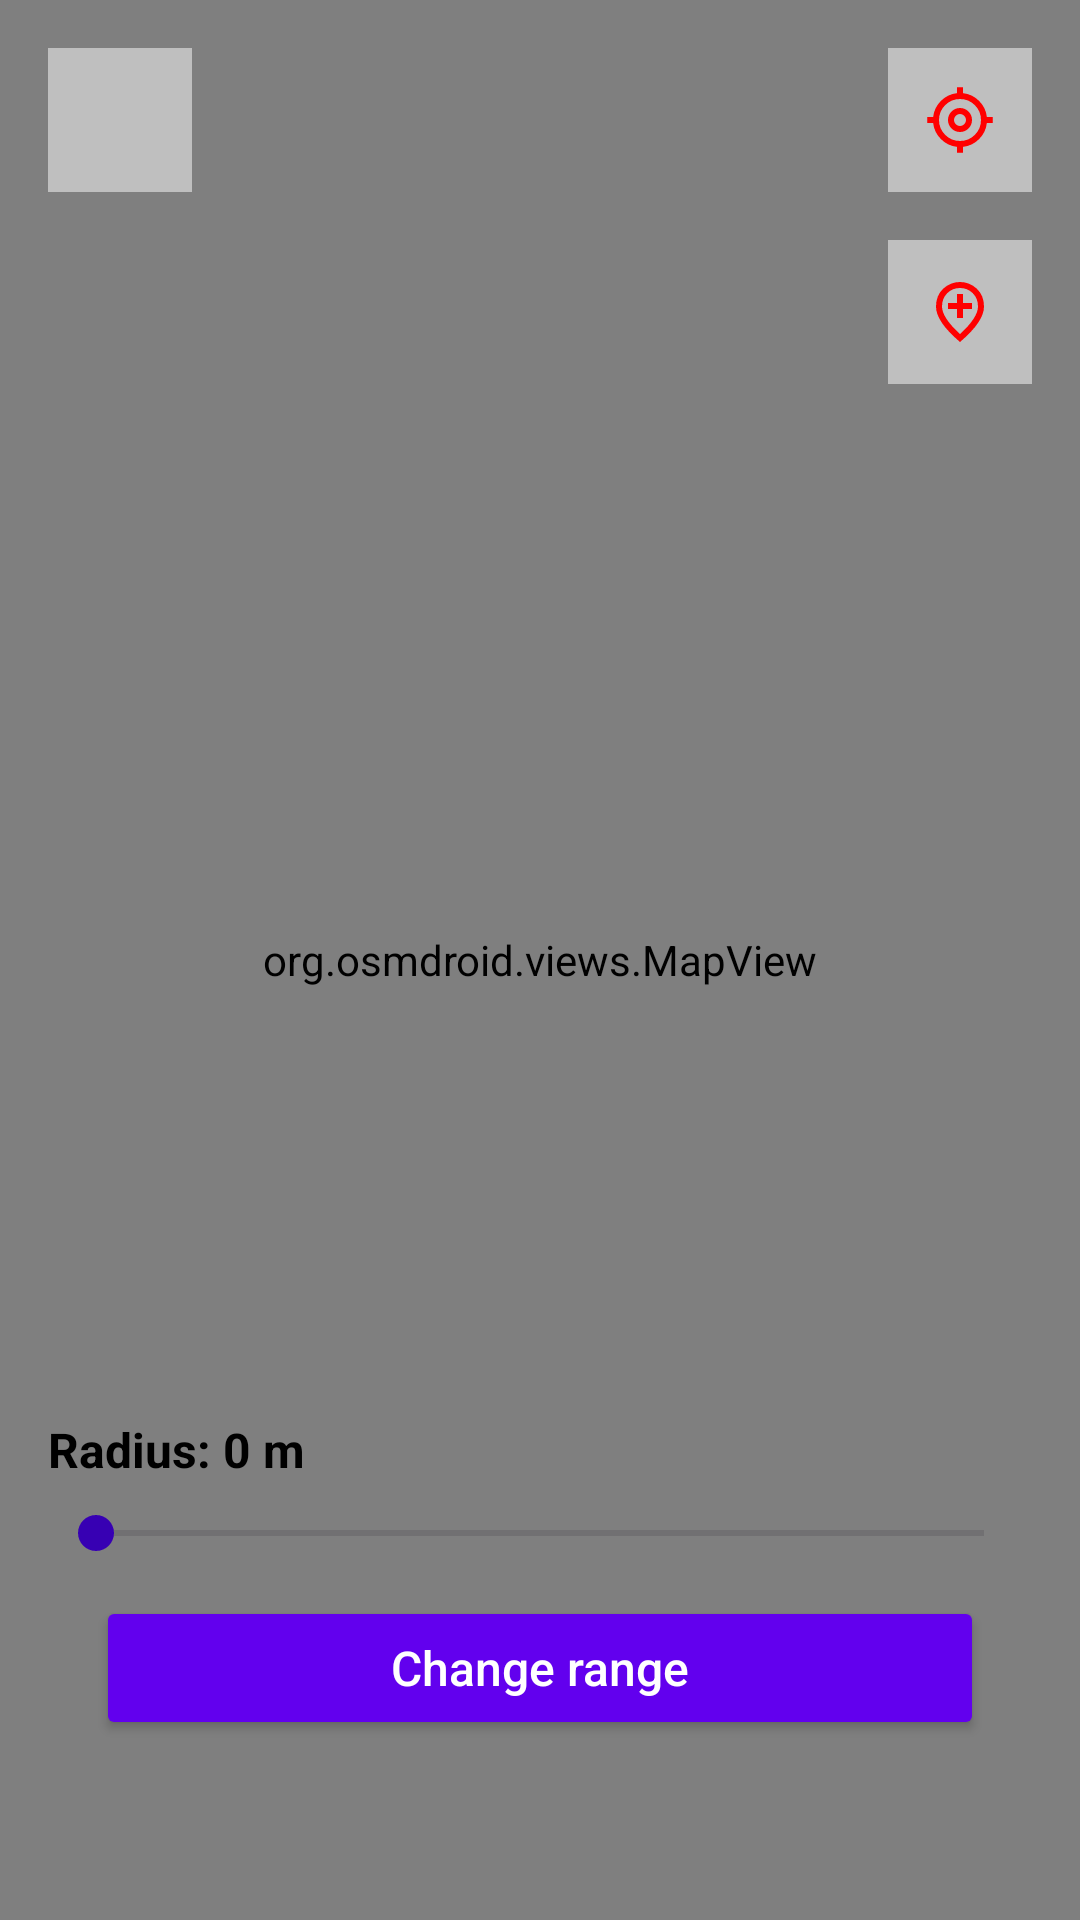

Icons on this 1080px×1920px Android screen, each with the point to tap as (x=x, y=y):
add location: (x=960, y=312)
current location: (x=960, y=120)
